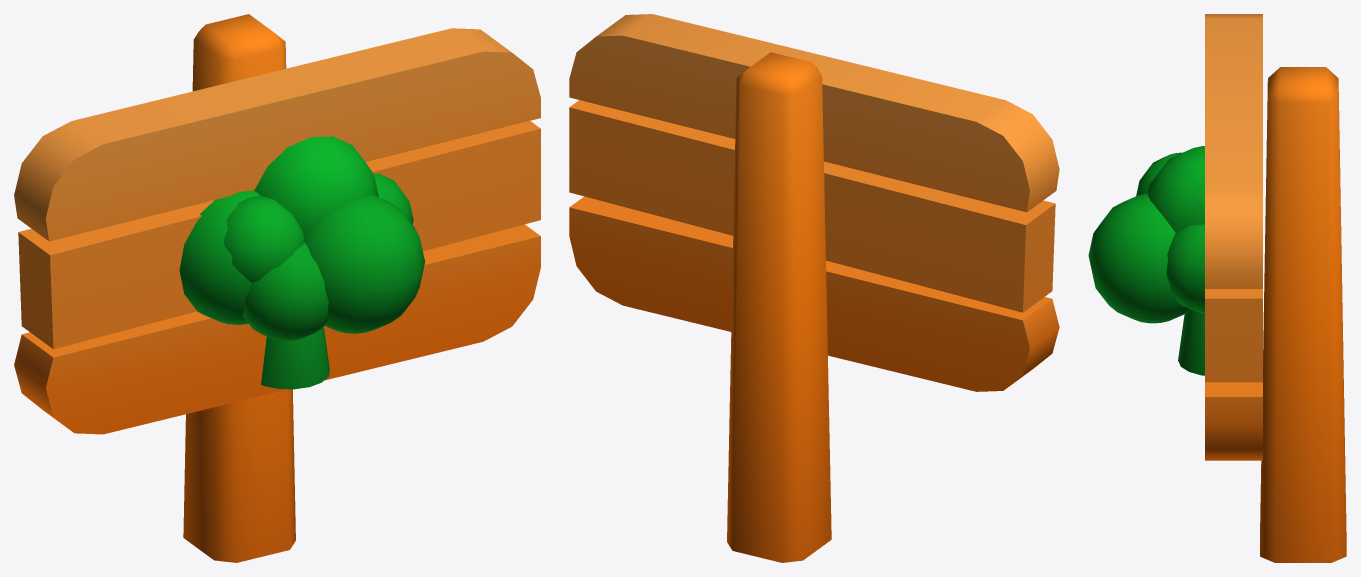
File: Farm_Crop_Sign_Broccoli_01.glb
3 views of the same model, side by side, from view 1: azimuth 30°, elevation 25°; view 2: azimuth 150°, elevation 25°; view 3: azimuth 270°, elevation 25° (orthographic). The views are drawn at different scales.
Visible parts, largest first — view 1: Farm_Crop_Sign_Broccoli_01; view 2: Farm_Crop_Sign_Broccoli_01; view 3: Farm_Crop_Sign_Broccoli_01.
Boxes of the visible parts, box(x1,y1,x2,y2) form: Farm_Crop_Sign_Broccoli_01: box(14, 14, 540, 562); Farm_Crop_Sign_Broccoli_01: box(569, 14, 1059, 562); Farm_Crop_Sign_Broccoli_01: box(1088, 14, 1346, 562).
Size of the model in its own units: 0.9011 by 0.888 by 0.4438.
1 material, 1 textured.
